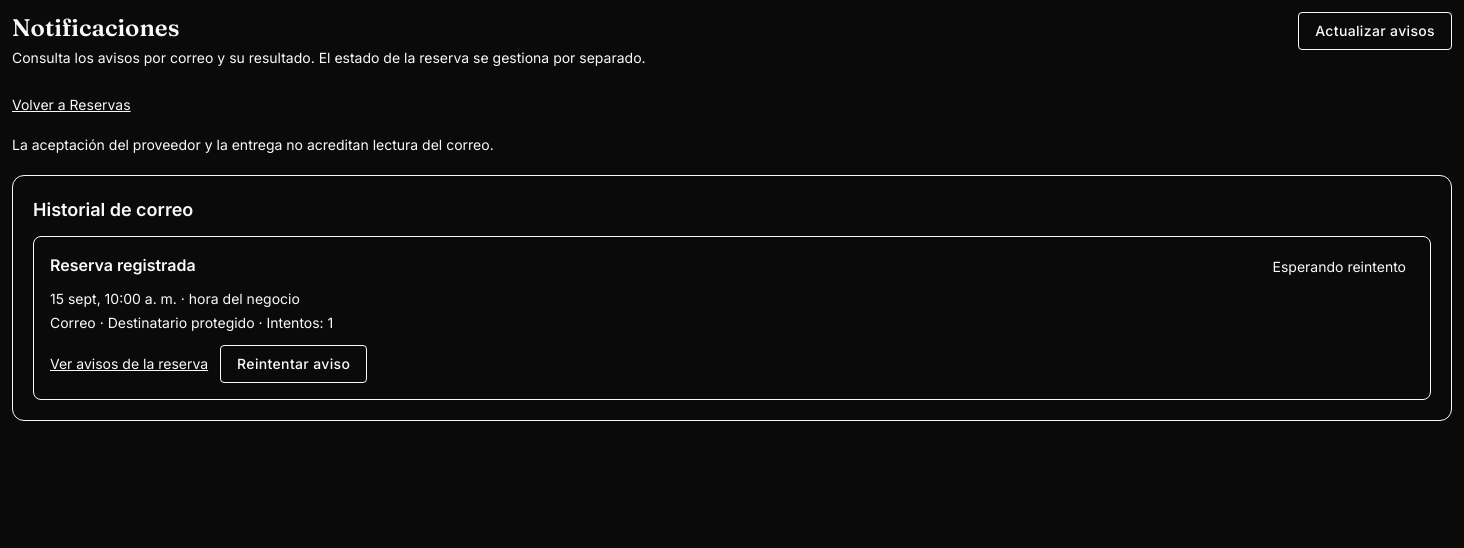
Test case: confirms a retry once and reports a request, never an email delivery
Click the button "Reintentar aviso". click: [294, 364]
box: [220, 345, 367, 383]
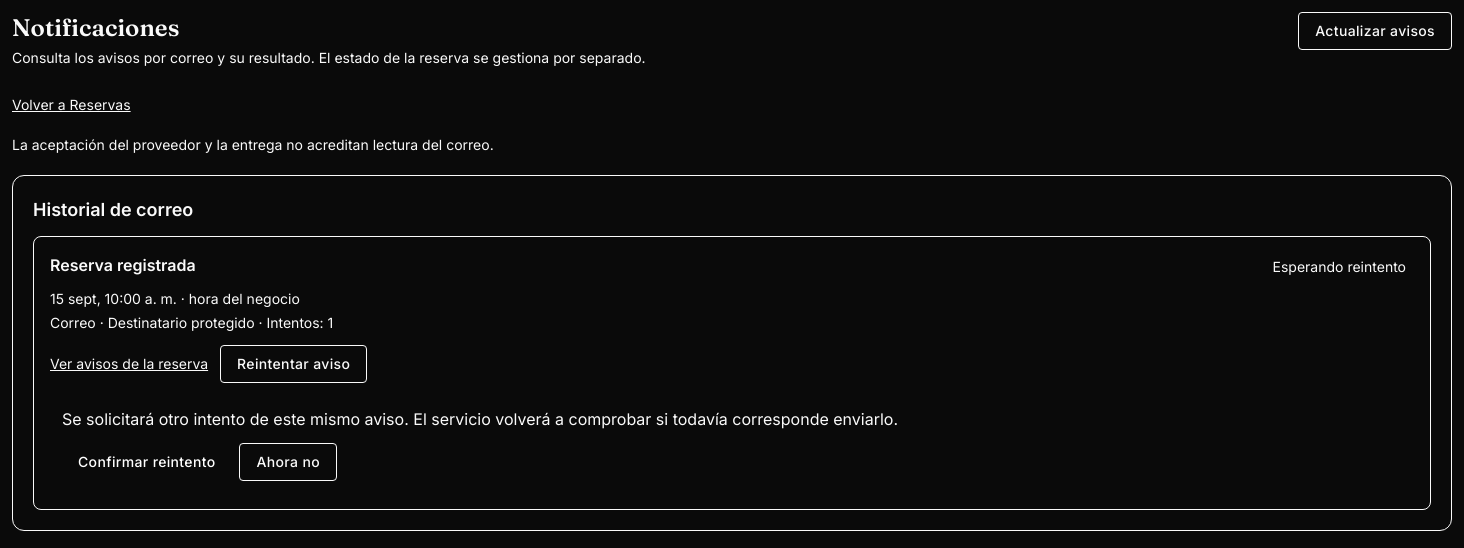
Click the button "Confirmar reintento". click: [147, 462]
box: [62, 443, 232, 481]
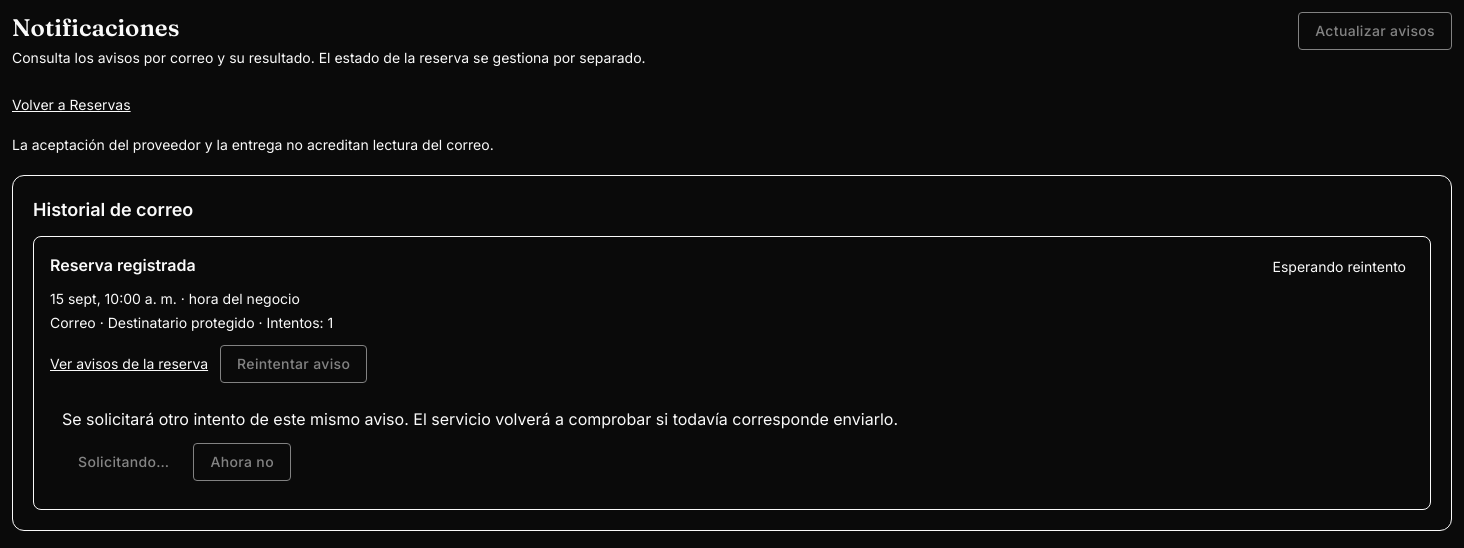
Click the button named "Confirmar reintento". click: [124, 462]
box: [62, 443, 185, 481]
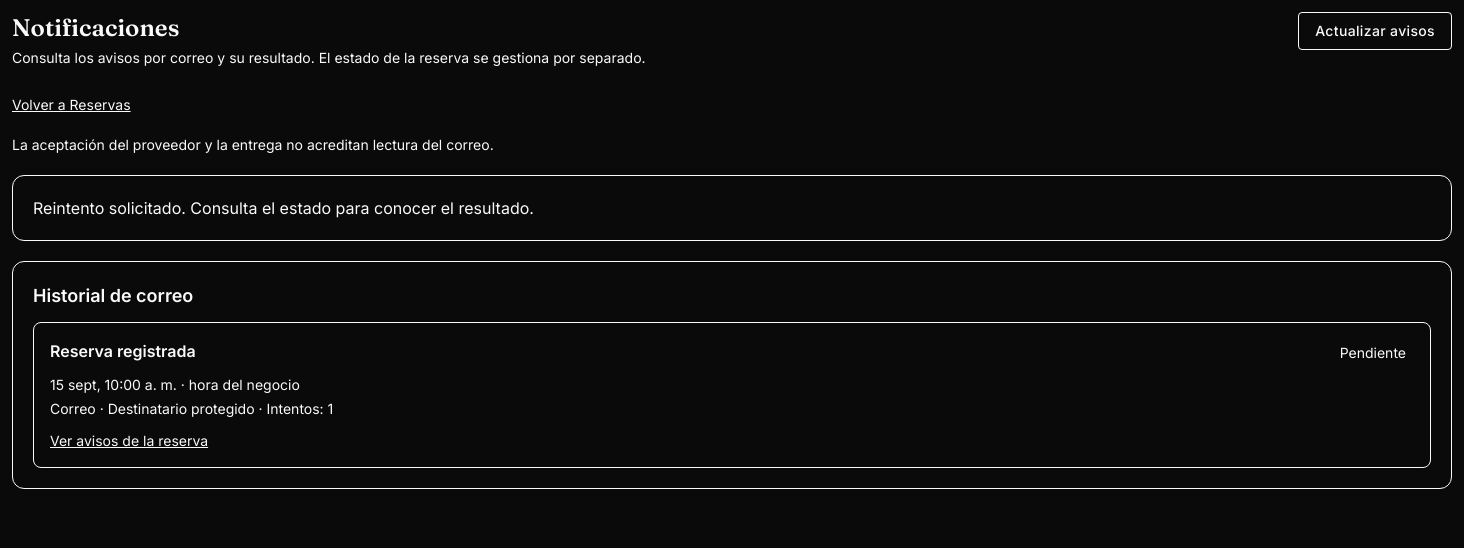
Check: the text "Reintento solicitado. Consulta el estado para conocer el resultado." is shown, box [12, 175, 1452, 241]
Check: the button "Reintentar aviso" is gone
